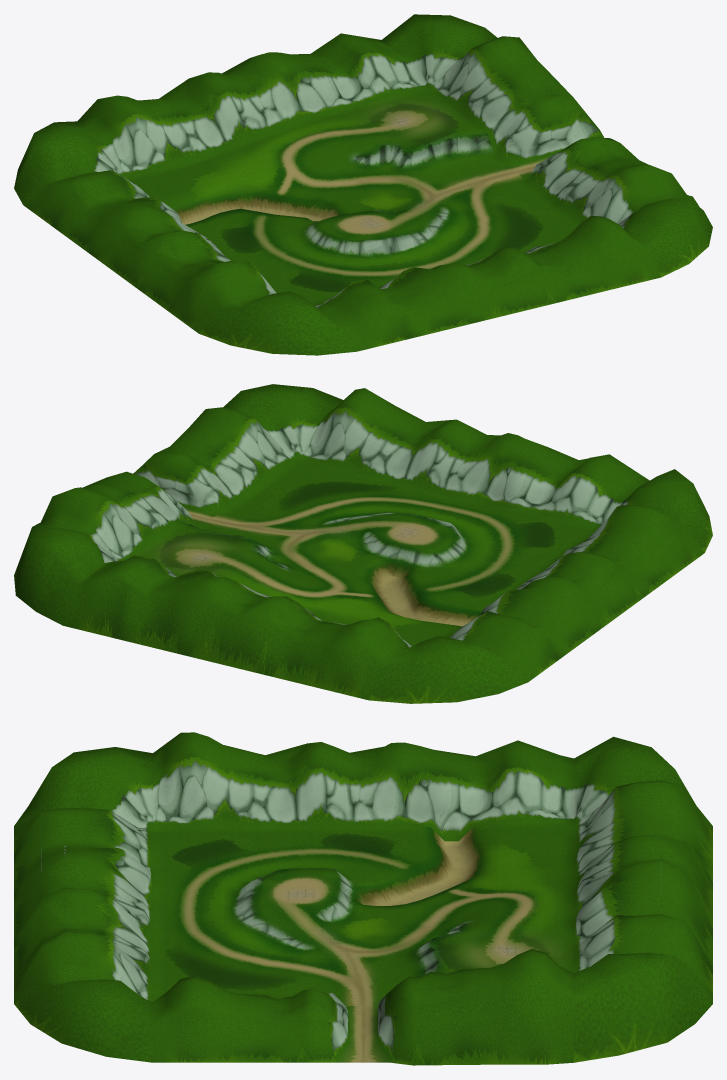
The model's file is SD_Terrain_03.fbx.
3 renders of one model, top to bottom at view 1: azimuth 30°, elevation 25°; view 2: azimuth 150°, elevation 25°; view 3: azimuth 270°, elevation 25°, orthographic. The views are drawn at different scales.
Visible parts, largest first — view 1: polySurface35; view 2: polySurface35; view 3: polySurface35.
Boxes of the visible parts, x1=… form: polySurface35: x1=14, y1=14, x2=712, y2=355; polySurface35: x1=14, y1=384, x2=712, y2=703; polySurface35: x1=14, y1=732, x2=712, y2=1065.
Size of the model in its own units: 111 by 16.39 by 110.
